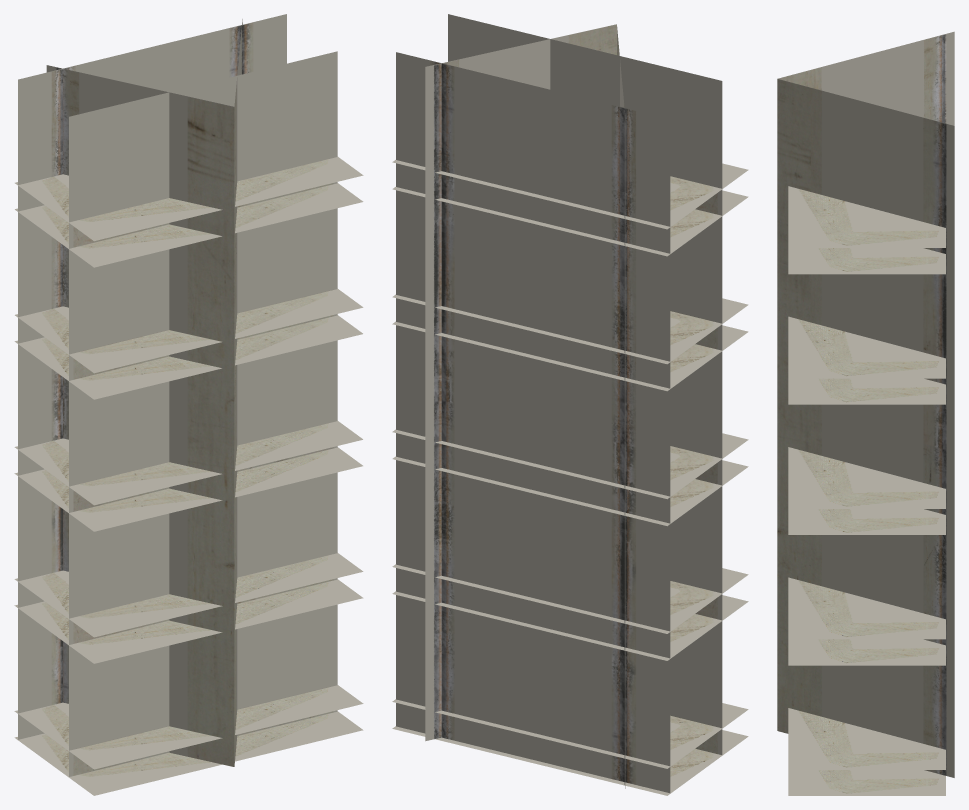
File: steel 1 md.fbx
The picture shows the model from 3 angles, left to right: view 1: azimuth 30°, elevation 25°; view 2: azimuth 150°, elevation 25°; view 3: azimuth 270°, elevation 25°; orthographic projection. The views are drawn at different scales.
Visible parts, largest first — view 1: Plane_001; view 2: Plane_001; view 3: Plane_001.
Boxes of the visible parts, x1=… form: Plane_001: x1=14, y1=14, x2=363, y2=795; Plane_001: x1=392, y1=14, x2=748, y2=795; Plane_001: x1=777, y1=31, x2=954, y2=795.
Bounding box in the file's own units: 214 × 500 × 123.
